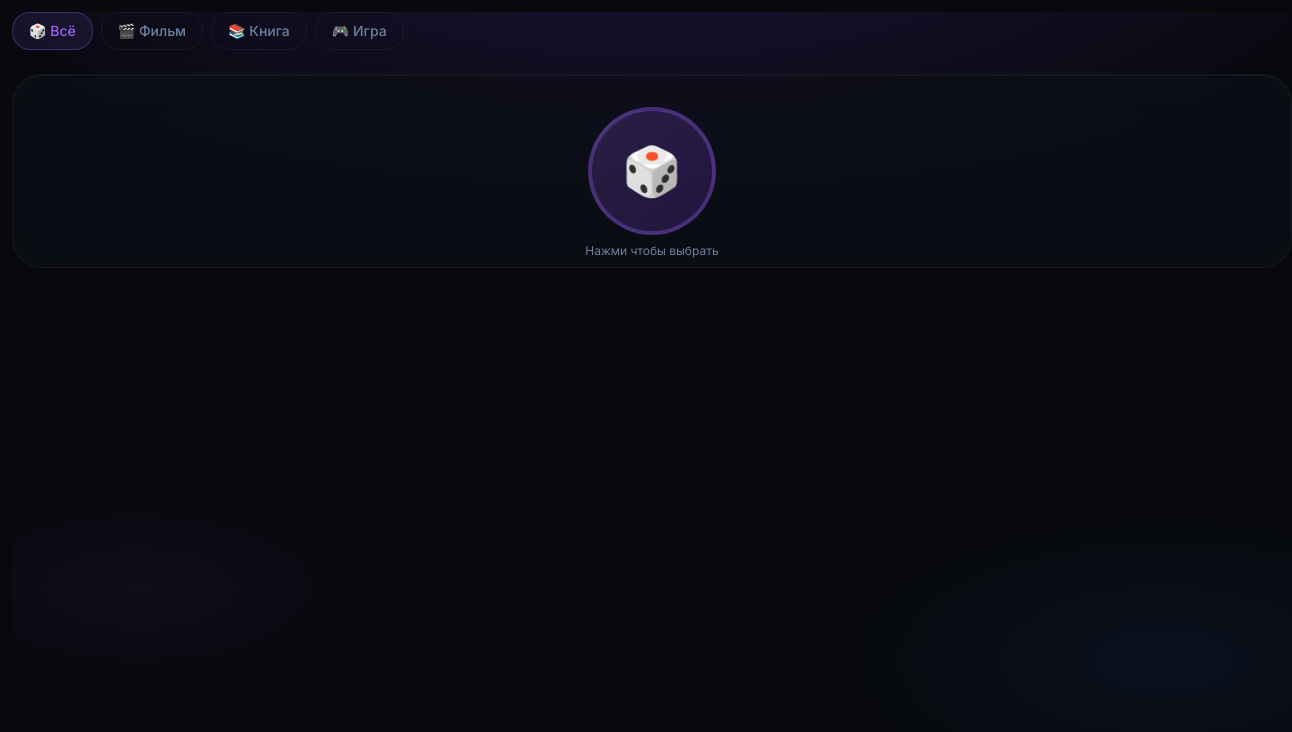
Test: RandomPicker › shows empty message when collection has no matching items
The width and height of the screenshot is (1292, 732).
Click the button "🎲": (652,171) [588,107,716,235]
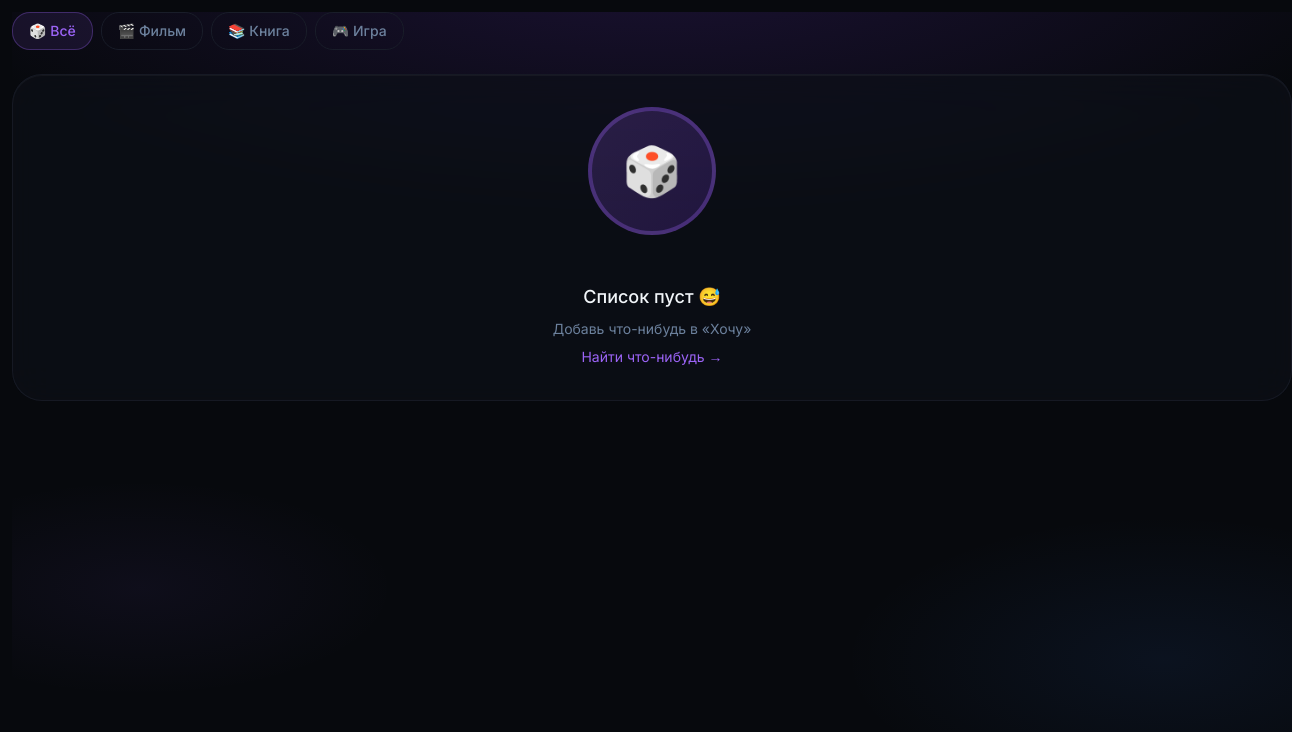
Now the text "Список пуст 😅" is shown, box [583,286,721,307]
